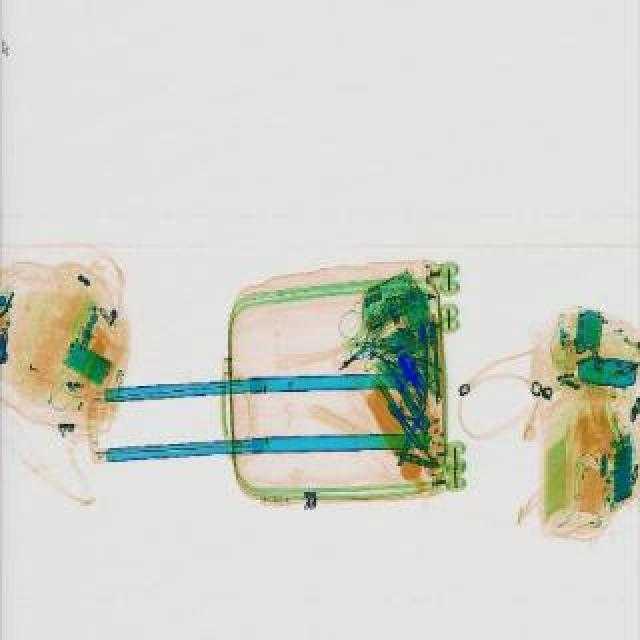wrench: (378, 398, 434, 450)
